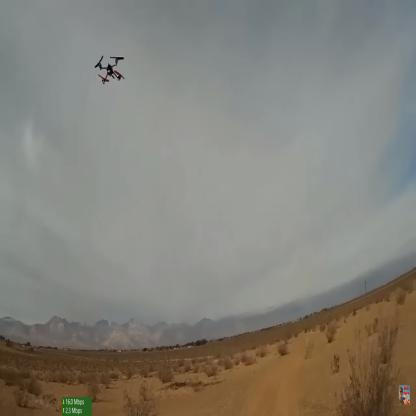drone: (92, 50, 133, 95)
